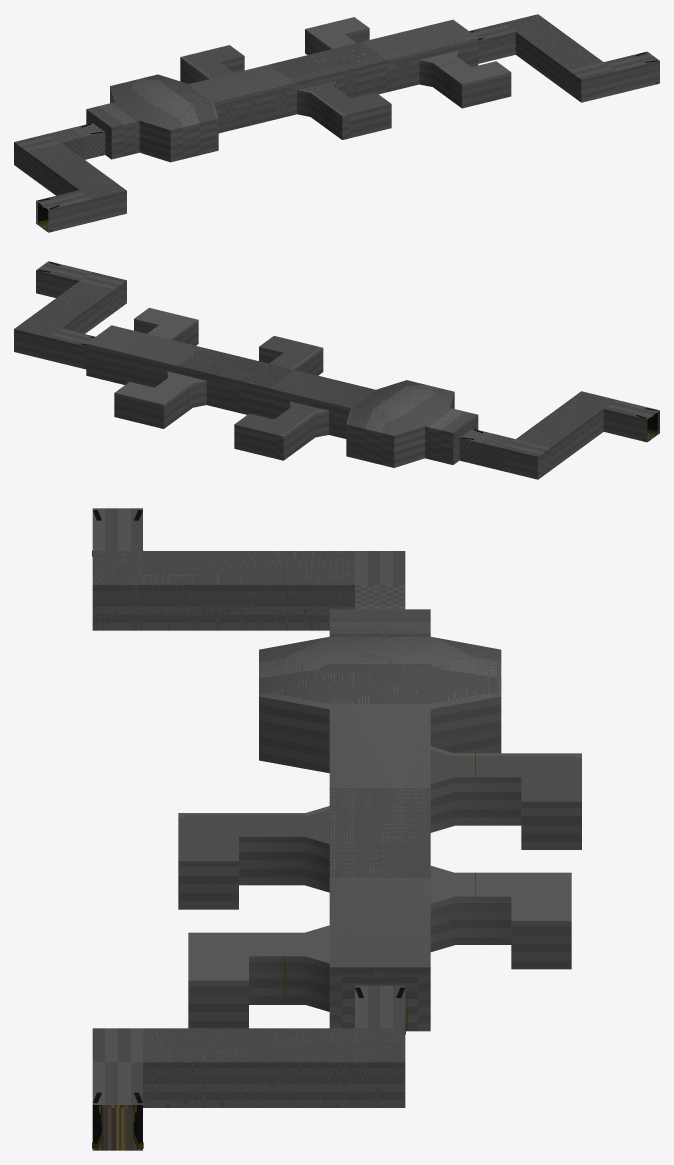
File: CinemaLevel1.gltf
3 renders of one model, top to bottom at view 1: azimuth 30°, elevation 25°; view 2: azimuth 150°, elevation 25°; view 3: azimuth 270°, elevation 25°, orthographic. The views are drawn at different scales.
Parts seen in each view (by area): view 1: MainHall, ExitHall, EntranceHall, Exit.004, Exit.003, Exit.002, Exit.001; view 2: MainHall, EntranceHall, ExitHall, Exit.004, Exit.001, Exit.002, Exit.003; view 3: MainHall, ExitHall, EntranceHall, Exit.003, Exit.002, Exit.004, Exit.001.
Part boxes in pixels (<box>): MainHall: <box>86,17,511,162</box>; ExitHall: <box>503,14,616,102</box>; EntranceHall: <box>14,133,126,221</box>; Exit.004: <box>36,190,92,232</box>; Exit.003: <box>604,51,659,93</box>; Exit.002: <box>469,23,515,63</box>; Exit.001: <box>49,123,105,159</box>; MainHall: <box>86,308,478,467</box>; EntranceHall: <box>503,391,615,479</box>; ExitHall: <box>14,272,126,360</box>; Exit.004: <box>603,400,659,442</box>; Exit.001: <box>459,428,515,470</box>; Exit.002: <box>49,328,95,369</box>; Exit.003: <box>36,261,91,297</box>; MainHall: <box>178,609,581,1031</box>; ExitHall: <box>92,1028,405,1107</box>; EntranceHall: <box>92,551,405,630</box>; Exit.003: <box>92,1062,142,1150</box>; Exit.002: <box>355,985,405,1028</box>; Exit.004: <box>92,508,142,550</box>; Exit.001: <box>355,585,405,609</box>.
Size of what is drawn, in the model's own units: 70 by 4.5 by 24.28.
12 materials, 12 textured.
